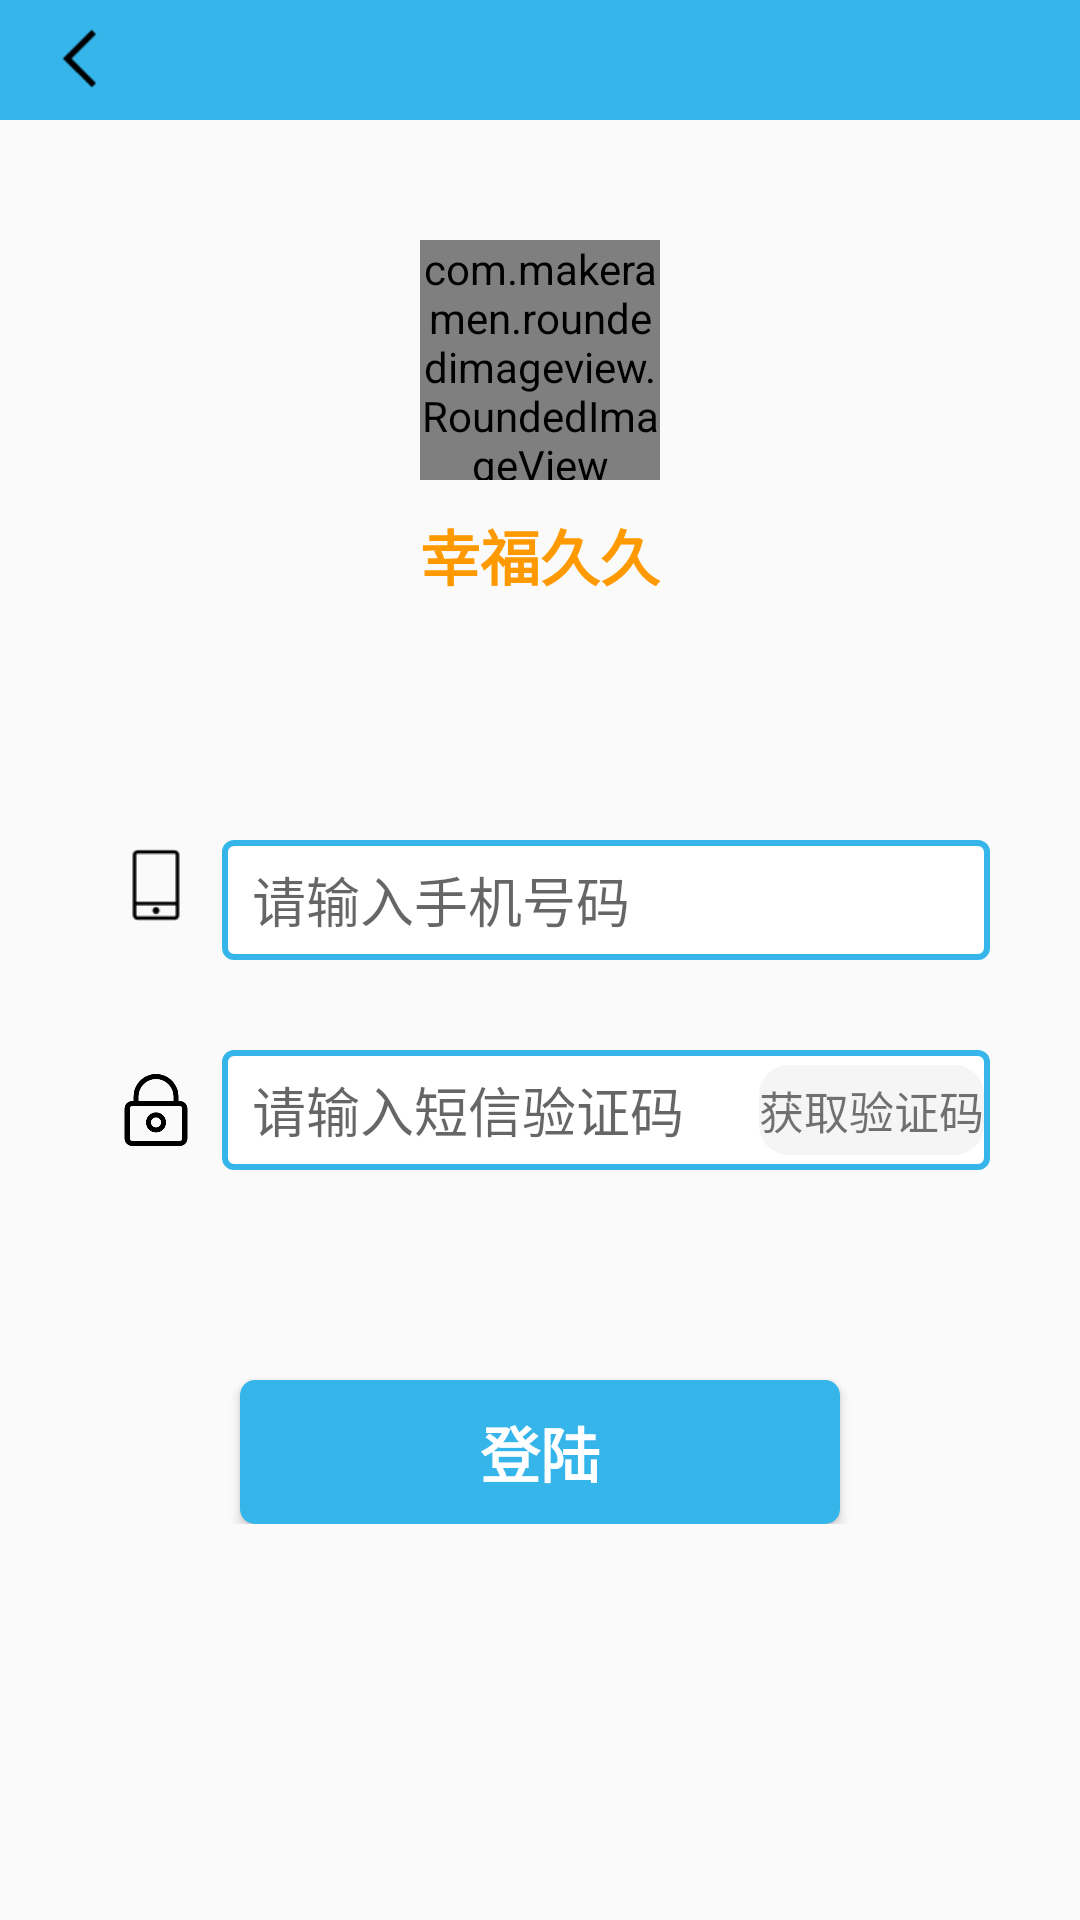

Icons on this 1080w x 1920h Android screen, each with the point to tap as [x,y]:
mine iv password: [156,1110]
mine leftarrow: [79,58]
msglogin phone: [156,885]
